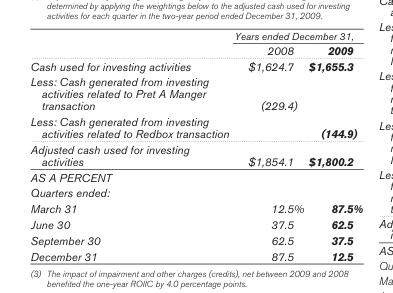table: (29, 29, 362, 262)
table column: (29, 29, 231, 262), (231, 29, 305, 262), (305, 29, 362, 262)
table column header: (29, 29, 362, 57)
table projected row header: (29, 168, 362, 184), (29, 184, 362, 200)
table row: (29, 73, 362, 113), (29, 140, 362, 168), (29, 113, 362, 140), (29, 41, 362, 57), (29, 57, 362, 73), (29, 168, 362, 184), (29, 184, 362, 200), (29, 200, 362, 216), (29, 231, 362, 247), (29, 216, 362, 231), (29, 247, 362, 262), (29, 29, 362, 41)
table spanning cell: (231, 29, 362, 41)
